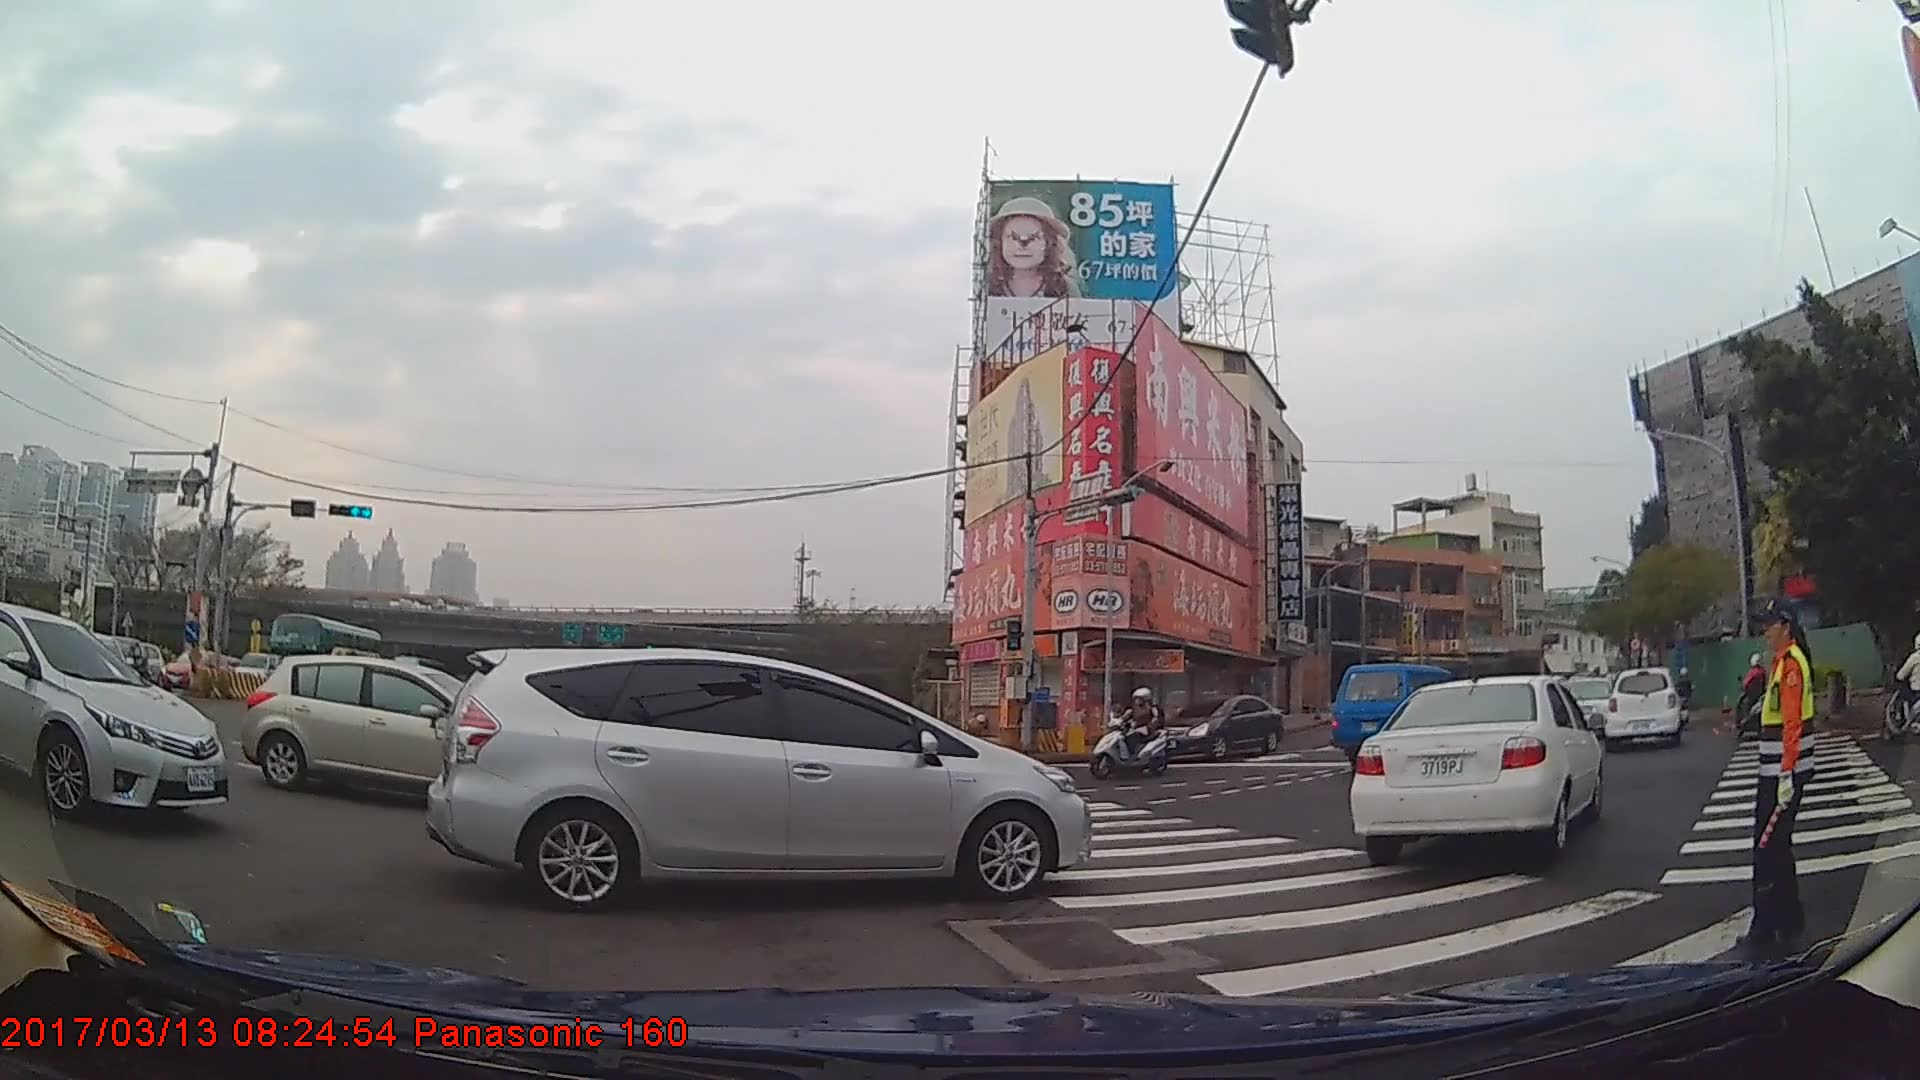pedestrian: (1738, 592, 1823, 943)
rider: (1092, 686, 1177, 777), (1733, 651, 1778, 740), (1675, 665, 1696, 725)
vehicle: (425, 643, 1095, 901), (0, 602, 227, 822), (1345, 669, 1601, 859), (243, 649, 530, 804), (1330, 661, 1475, 769), (268, 609, 384, 691), (1158, 693, 1281, 762), (1601, 662, 1681, 752), (155, 642, 234, 692)
